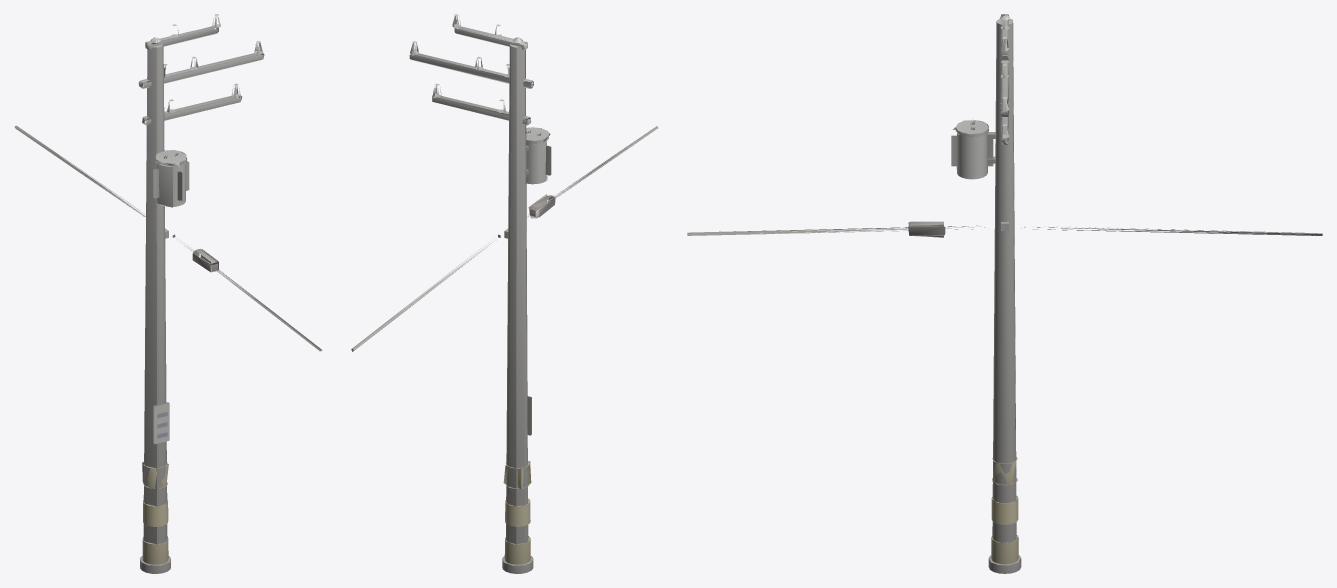
The model's file is pole.lod.glb.
3 views of the same model, side by side, from view 1: azimuth 30°, elevation 25°; view 2: azimuth 150°, elevation 25°; view 3: azimuth 270°, elevation 25° (orthographic). The views are drawn at different scales.
Visible parts, largest first — view 1: pole.001; view 2: pole.001; view 3: pole.001.
Boxes of the visible parts, x1,y1,x2,y2 form: pole.001: (14,14,322,573); pole.001: (351,14,658,573); pole.001: (687,14,1322,573).
Size of the model in its own units: 1.93 by 7.96 by 8.18.
